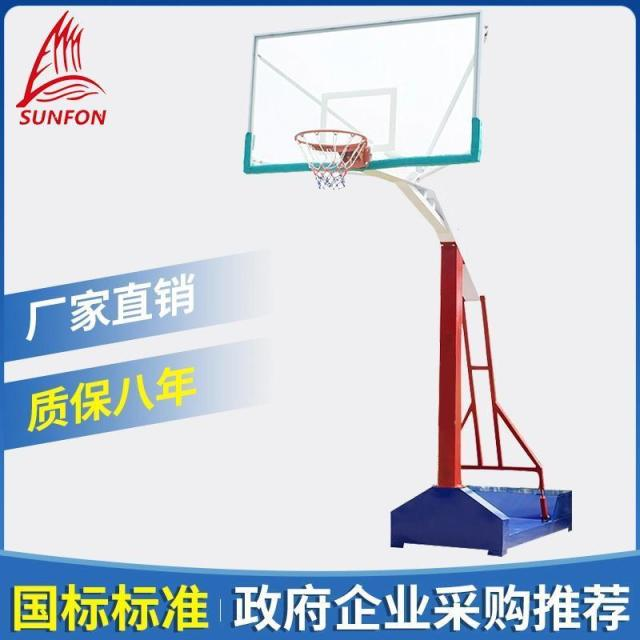rim: (294, 128, 369, 192)
